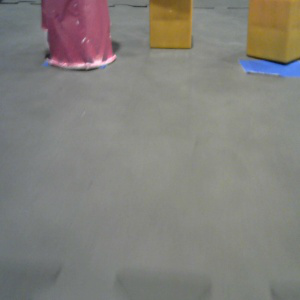middle: (41, 1, 117, 69)
